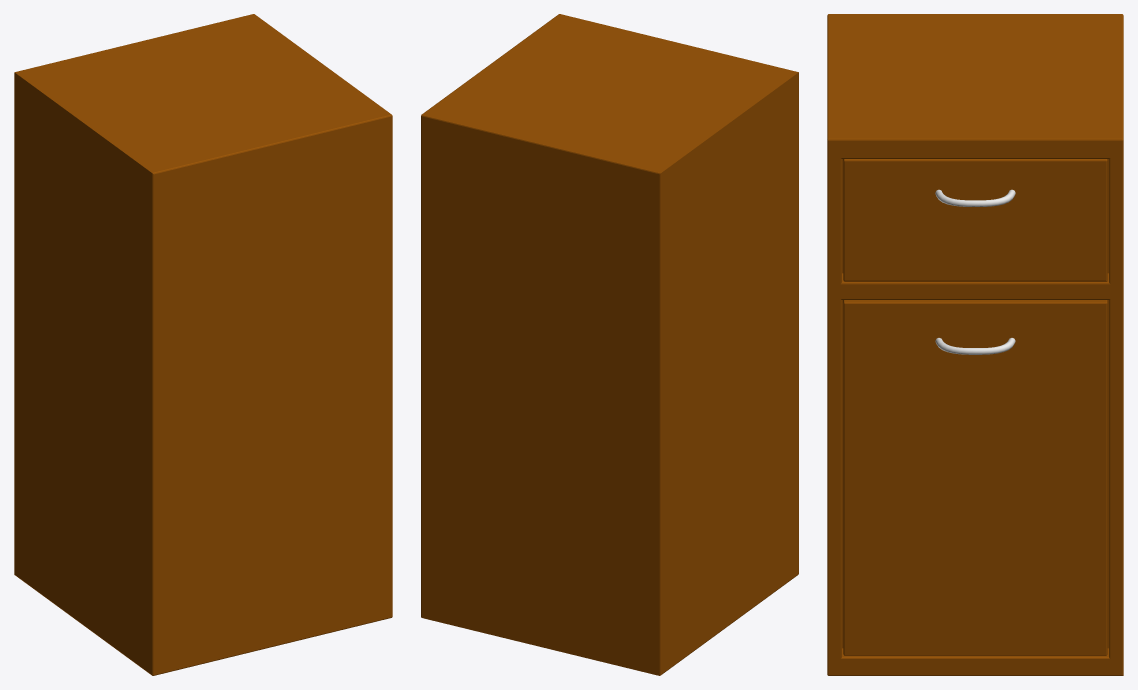
Rendered from Cabinet.fbx.
3 views of the same model, side by side, from view 1: azimuth 30°, elevation 25°; view 2: azimuth 150°, elevation 25°; view 3: azimuth 270°, elevation 25° (orthographic). The views are drawn at different scales.
Visible parts, largest first — view 1: Cabinet; view 2: Cabinet; view 3: Drawer.Bottom, Cabinet, Drawer.Top, Handle.Bottom, Handle.Top.
Part boxes in pixels (<box>): Cabinet: <box>14,14,392,675</box>; Cabinet: <box>421,14,798,675</box>; Drawer.Bottom: <box>843,300,1107,655</box>; Cabinet: <box>827,14,1123,675</box>; Drawer.Top: <box>843,159,1107,281</box>; Handle.Bottom: <box>935,338,1015,354</box>; Handle.Top: <box>935,189,1015,206</box>.
Size of the model in its own units: 57.58 by 105 by 52.48.
